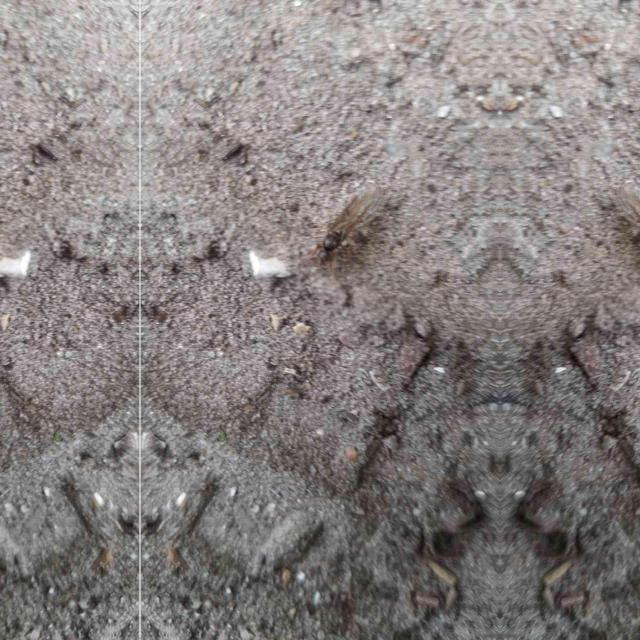Lasius: (311, 194, 374, 262), (626, 192, 640, 262)
